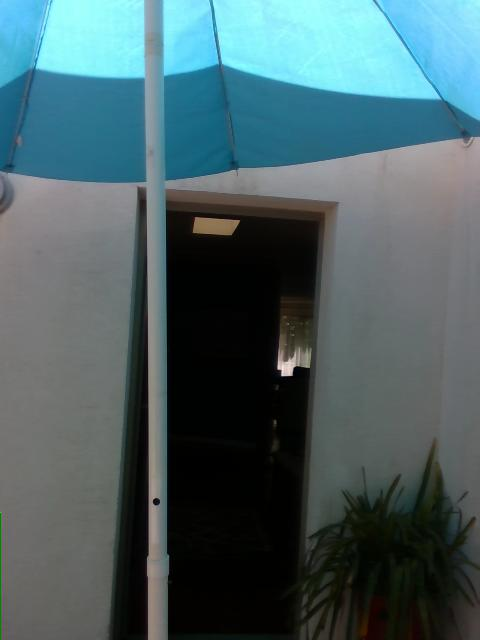open_door: (111, 199, 325, 639)
